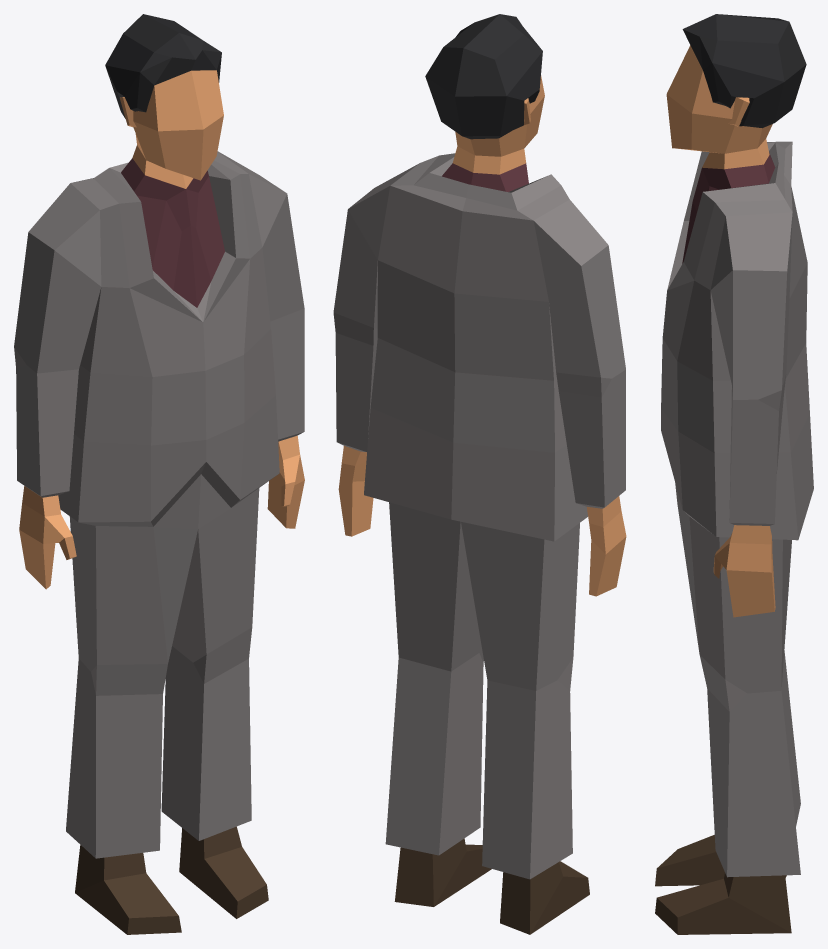
File: man-suit.fbx
3 views of the same model, side by side, from view 1: azimuth 30°, elevation 25°; view 2: azimuth 150°, elevation 25°; view 3: azimuth 270°, elevation 25° (orthographic).
Visible parts, largest first — view 1: man-suit; view 2: man-suit; view 3: man-suit.
Boxes of the visible parts, x1=… form: man-suit: x1=14, y1=14, x2=304, y2=934; man-suit: x1=333, y1=14, x2=626, y2=934; man-suit: x1=655, y1=14, x2=813, y2=934.
Bounding box in the file's own units: 0.5881 × 1.83 × 0.2976.
